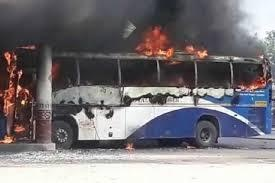fire: (0, 48, 35, 146), (135, 27, 209, 64), (134, 27, 174, 60), (236, 74, 269, 92), (121, 140, 137, 155)
